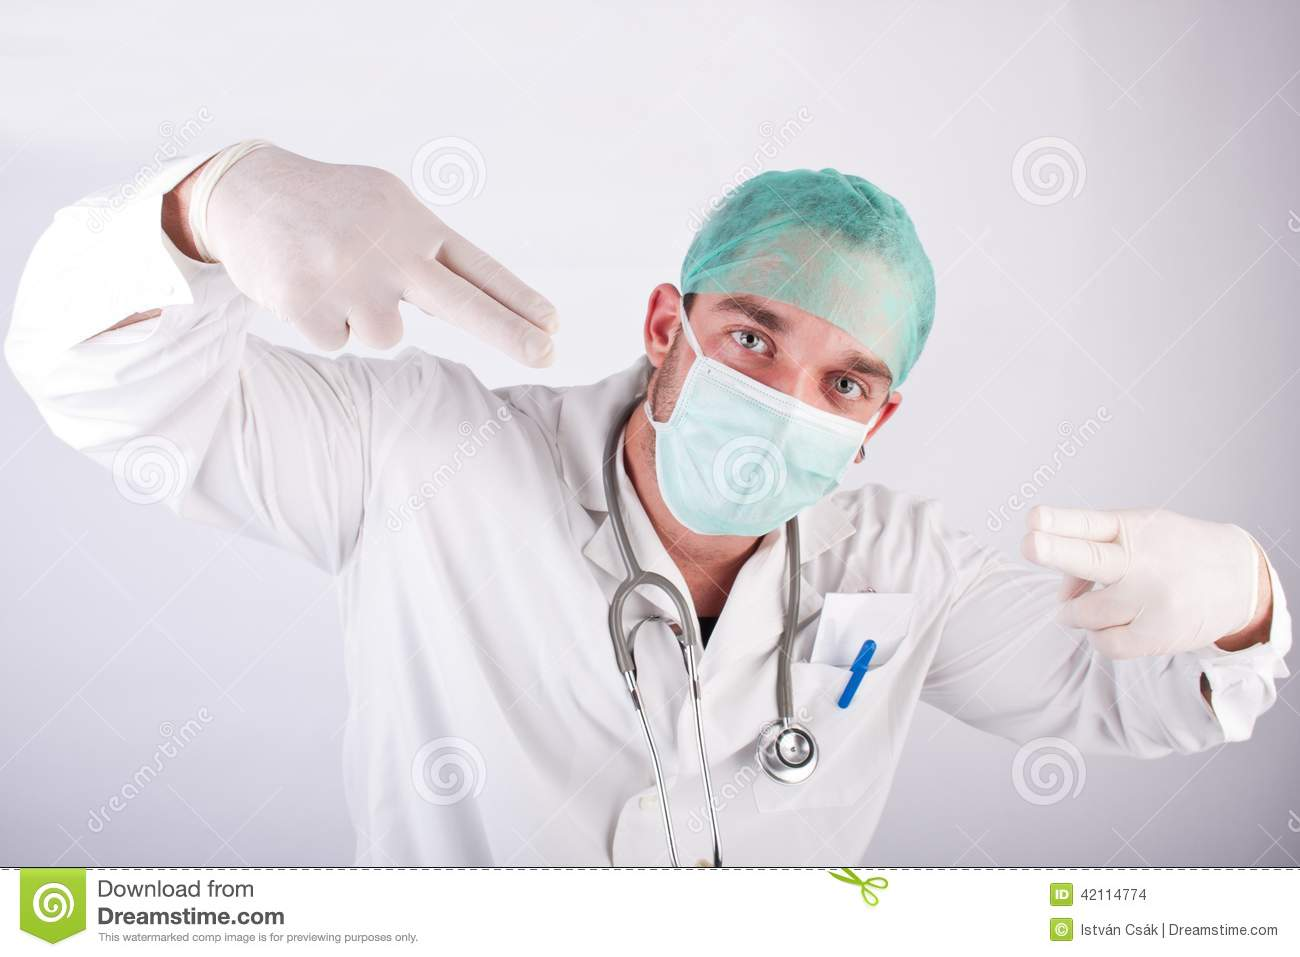mask: (664, 348, 869, 563)
